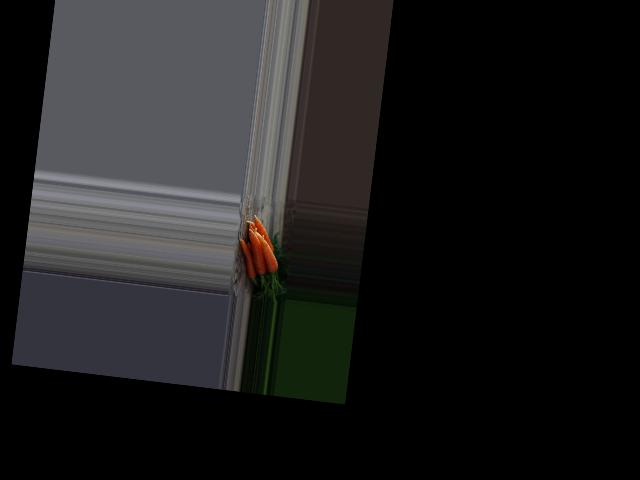carrot: (235, 234, 262, 280)
